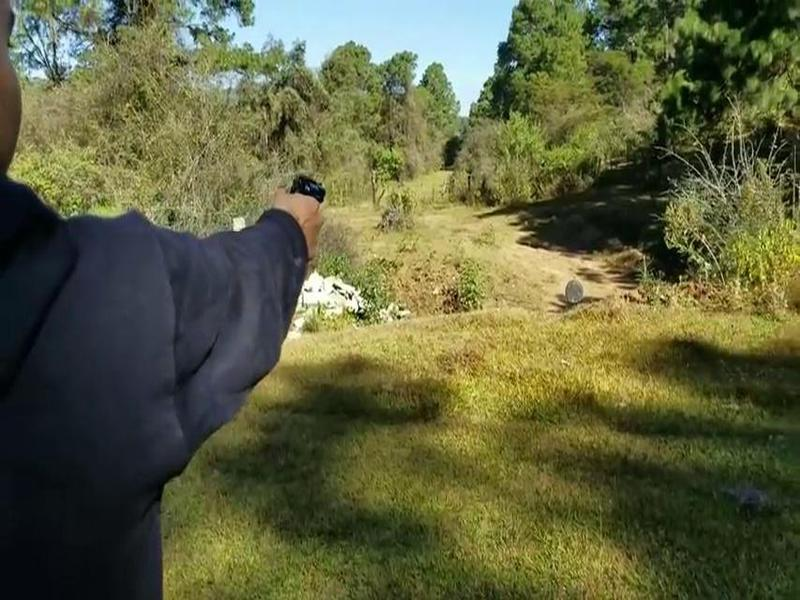Revolver: (277, 163, 354, 228)
